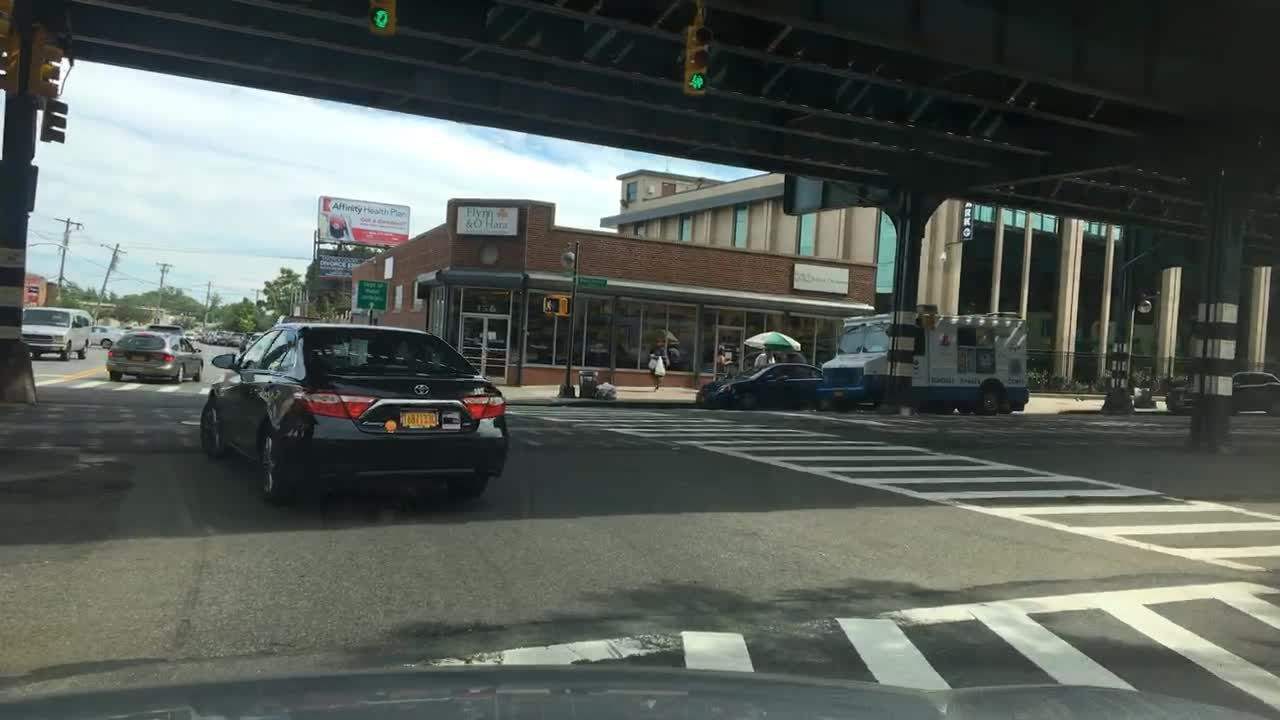car: (197, 322, 511, 497), (689, 362, 825, 413), (105, 331, 204, 382), (18, 304, 89, 362), (1225, 370, 1279, 415), (1161, 373, 1193, 412), (83, 323, 120, 352), (143, 323, 184, 335), (211, 328, 232, 344), (246, 330, 261, 347), (231, 330, 246, 346), (202, 328, 215, 344), (183, 328, 197, 340), (122, 323, 135, 332), (196, 330, 203, 346)
person: (648, 348, 666, 389), (715, 346, 734, 379), (755, 350, 777, 371)
traffic light: (32, 35, 64, 97), (683, 26, 707, 95), (38, 97, 68, 143), (371, 0, 395, 38), (541, 294, 573, 317)
traffic sign: (0, 161, 40, 211), (354, 279, 390, 314), (577, 274, 609, 290)
truck: (820, 312, 1032, 416)
